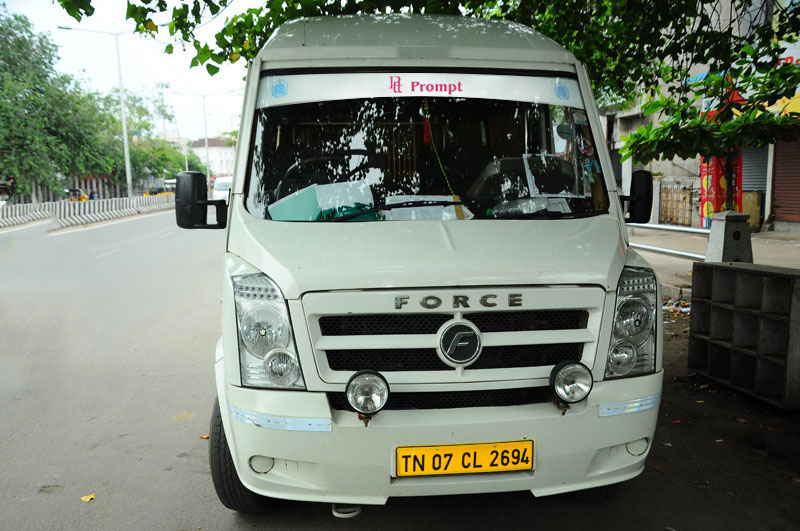numberplate: (395, 440, 534, 477)
